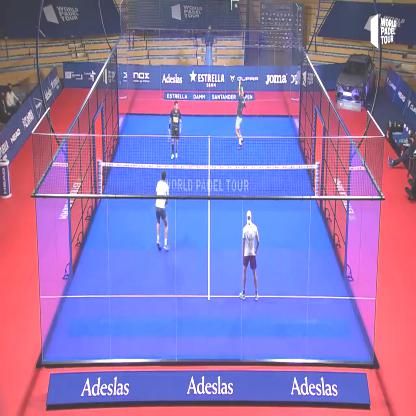ball: (231, 0, 240, 11)
